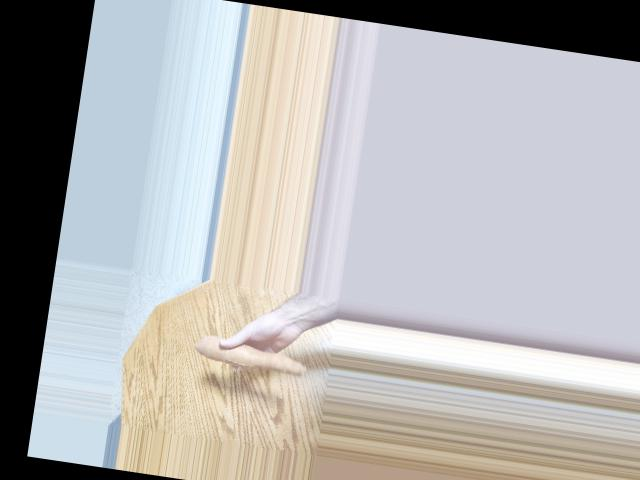sweet_potato: (195, 337, 313, 380)
